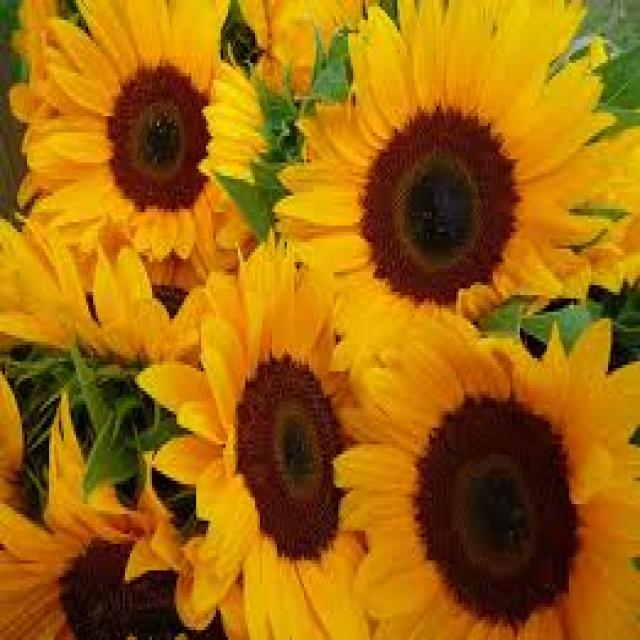sunflower: (270, 0, 616, 351), (142, 219, 411, 640), (326, 285, 640, 640), (18, 0, 277, 295), (0, 391, 277, 640), (0, 209, 232, 398), (196, 18, 335, 265)
